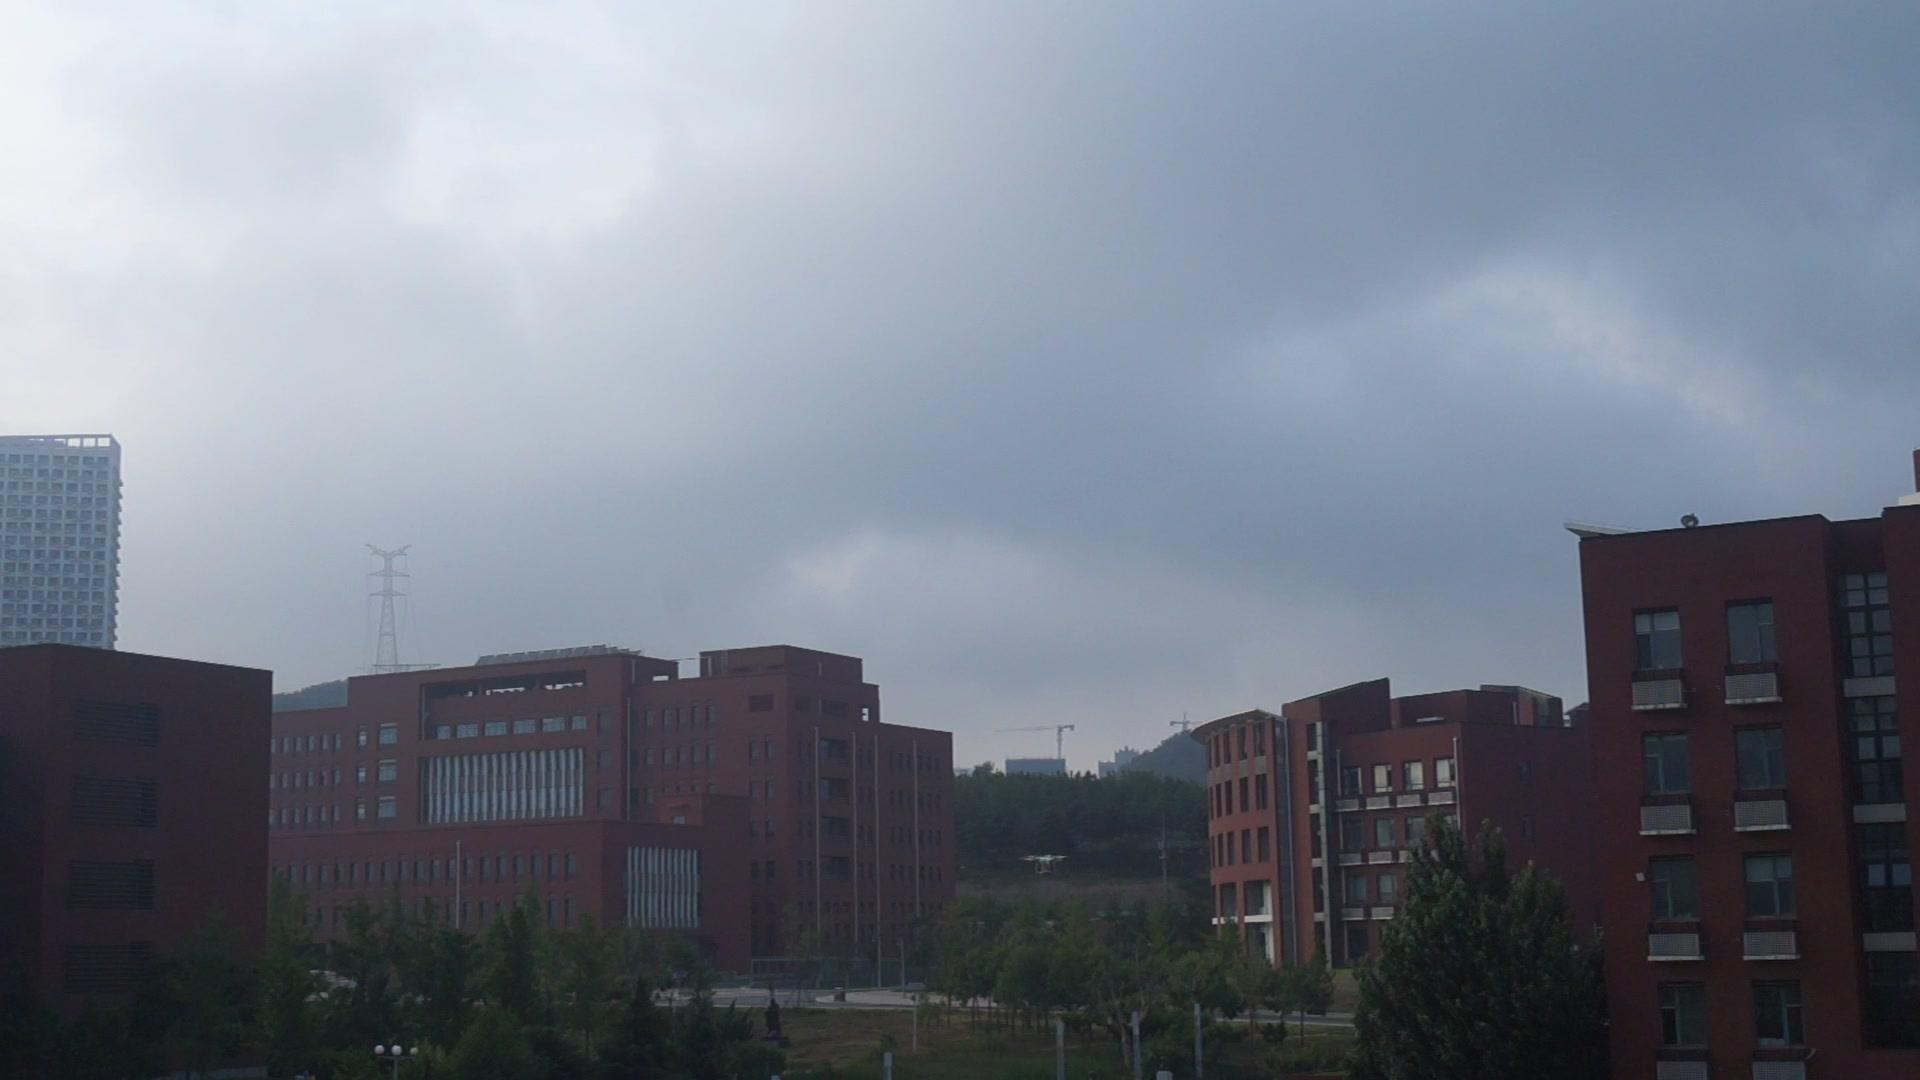UAV: (1019, 855, 1069, 876)
